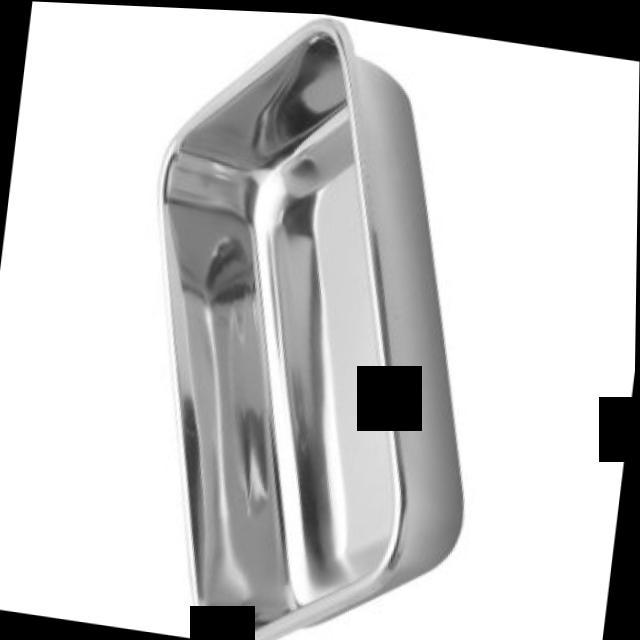Catheter Tray: (102, 4, 527, 640)
